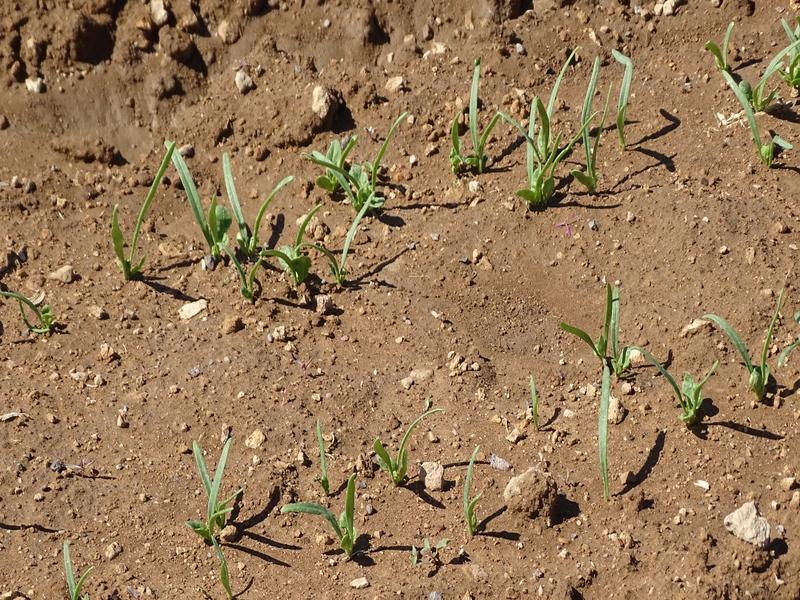Espinaca: (115, 107, 405, 300), (179, 418, 492, 565), (579, 275, 783, 475), (457, 37, 636, 197), (708, 26, 800, 163), (5, 289, 57, 334), (525, 380, 549, 428)
